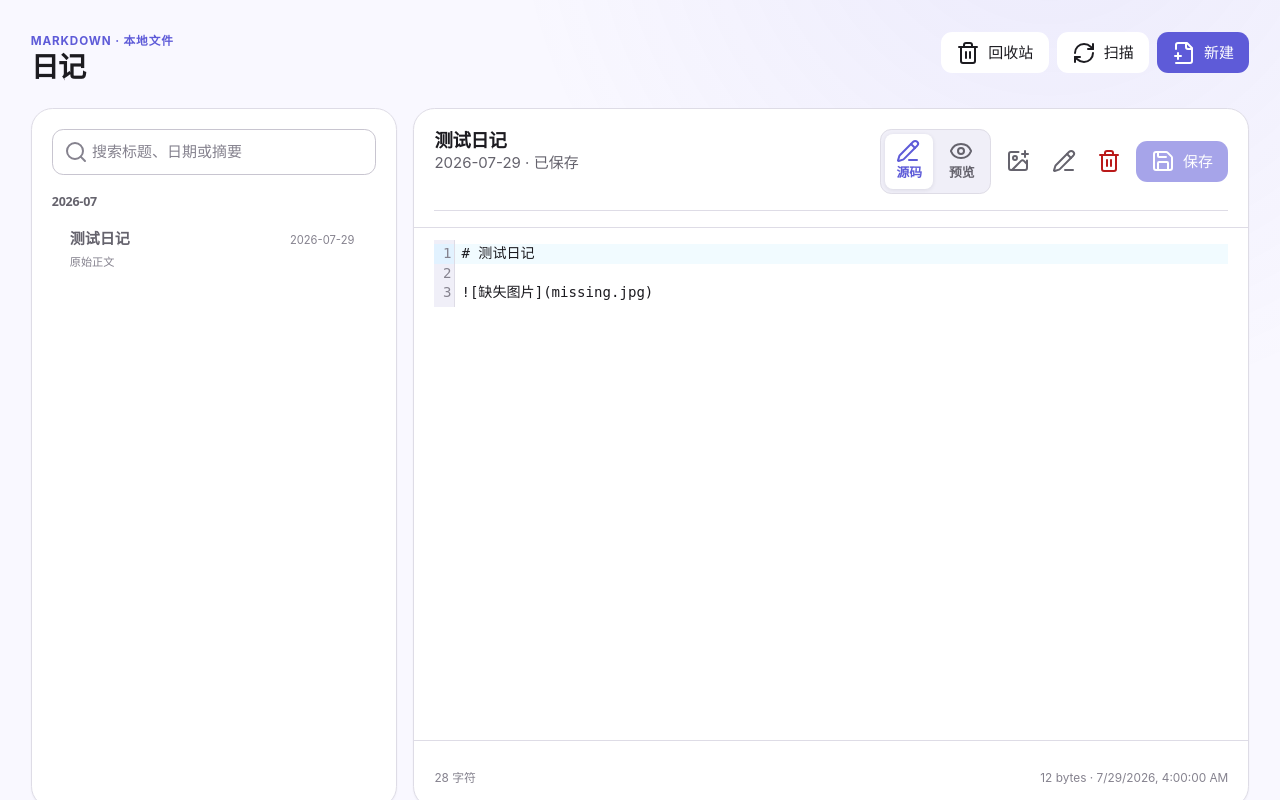
DiaryPage file conflict flow › finishes loading when a Markdown image cannot be resolved
The image size is (1280, 800).
What coordinates should you click on to do the following:
click the button "预览"
I would click on:
 (962, 161)
Its box is [938,134,986,189].
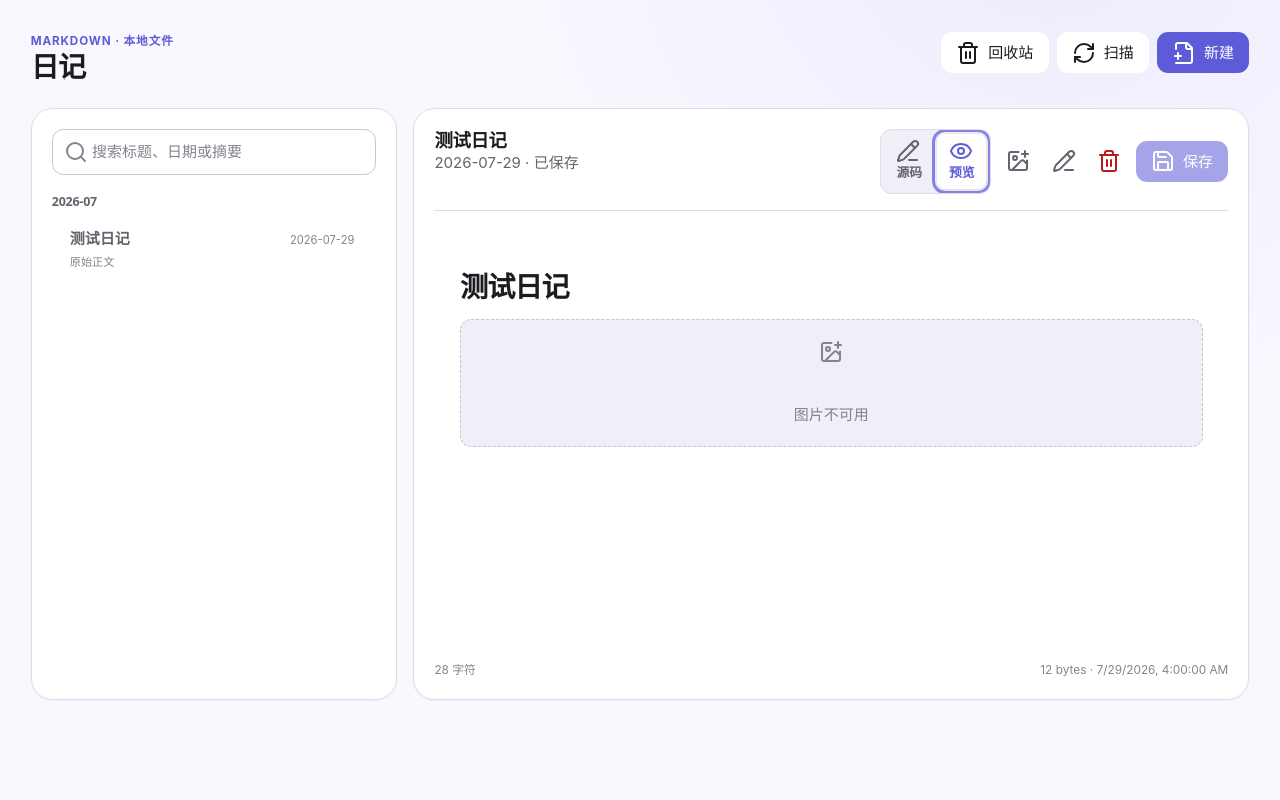
Check: the text "图片不可用" is shown, box [794,403,869,426]
